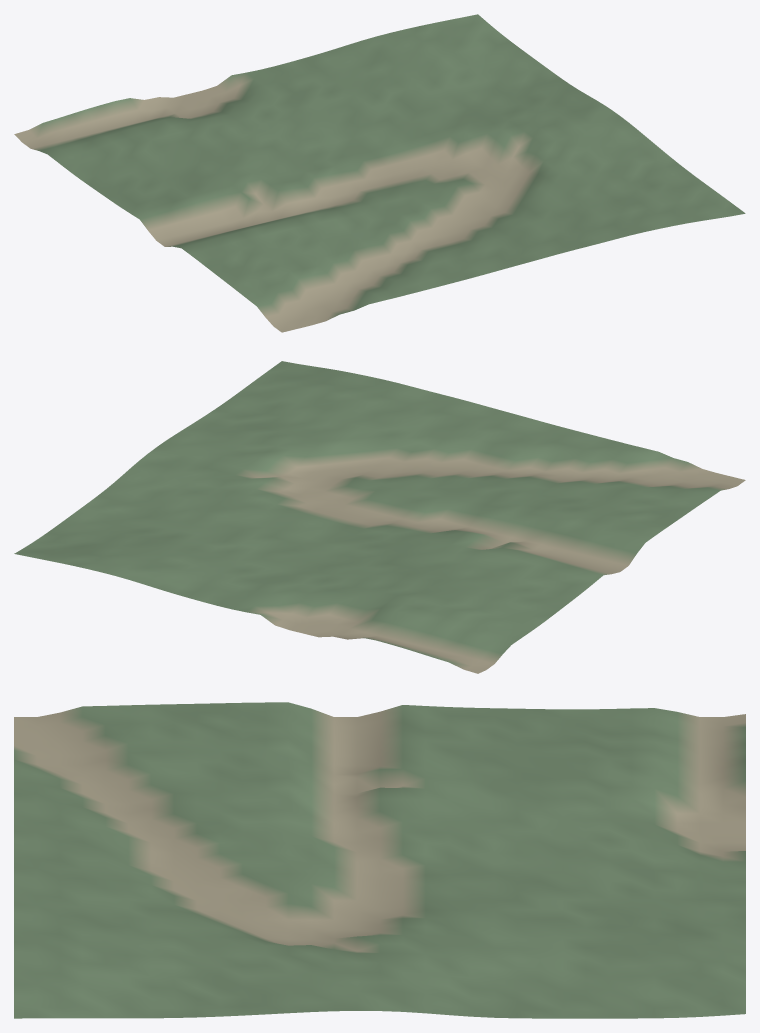
3 views of the same model, one above another, from view 1: azimuth 30°, elevation 25°; view 2: azimuth 150°, elevation 25°; view 3: azimuth 270°, elevation 25° (orthographic). The views are drawn at different scales.
Visible parts, largest first — view 1: Terrain-col; view 2: Terrain-col; view 3: Terrain-col.
Boxes of the visible parts, x1,y1,x2,y2 form: Terrain-col: [14, 14, 745, 332]; Terrain-col: [14, 361, 745, 673]; Terrain-col: [14, 702, 745, 1018].
Bounding box in the file's own units: 256 × 6.7 × 256.
